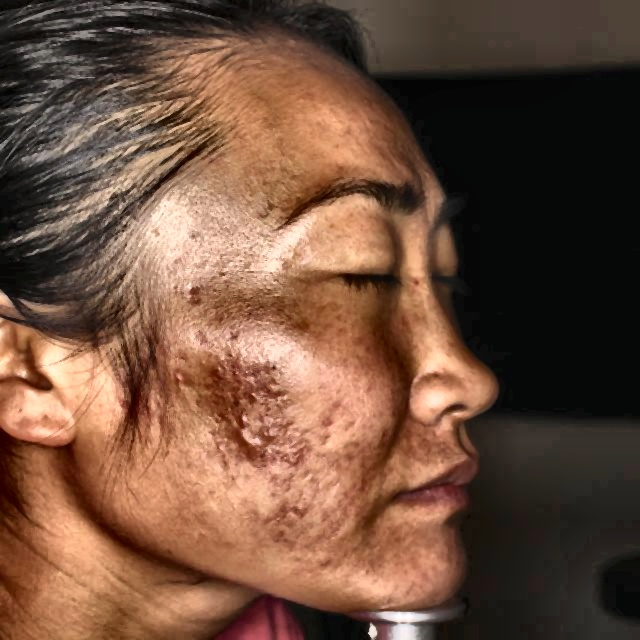pustule: (164, 357, 190, 390), (260, 375, 286, 400), (177, 283, 205, 306), (203, 359, 226, 384), (235, 363, 256, 388), (286, 497, 308, 519), (314, 550, 334, 574), (246, 439, 262, 466), (265, 420, 281, 445), (235, 407, 256, 421), (232, 427, 248, 445)
